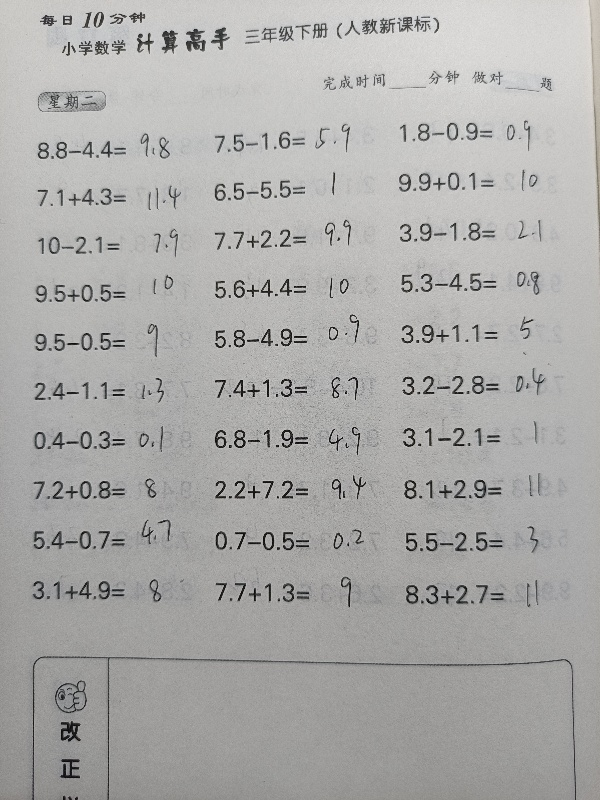equation: (207, 116, 387, 160), (397, 577, 577, 612), (208, 575, 388, 610), (24, 573, 204, 608), (397, 524, 577, 559), (395, 472, 575, 507), (395, 420, 575, 455), (393, 367, 573, 402), (391, 114, 571, 149), (207, 524, 387, 558), (25, 523, 205, 557), (207, 473, 387, 507), (26, 473, 206, 507), (25, 423, 205, 457), (206, 422, 386, 456), (205, 371, 385, 405), (27, 325, 207, 359), (206, 321, 386, 355), (393, 317, 573, 351), (27, 277, 207, 311), (206, 271, 386, 305), (392, 265, 572, 299), (206, 222, 386, 256), (390, 215, 570, 249), (205, 173, 385, 207), (389, 165, 569, 199), (26, 375, 206, 408), (30, 229, 210, 262), (29, 134, 209, 167), (29, 181, 209, 213)
